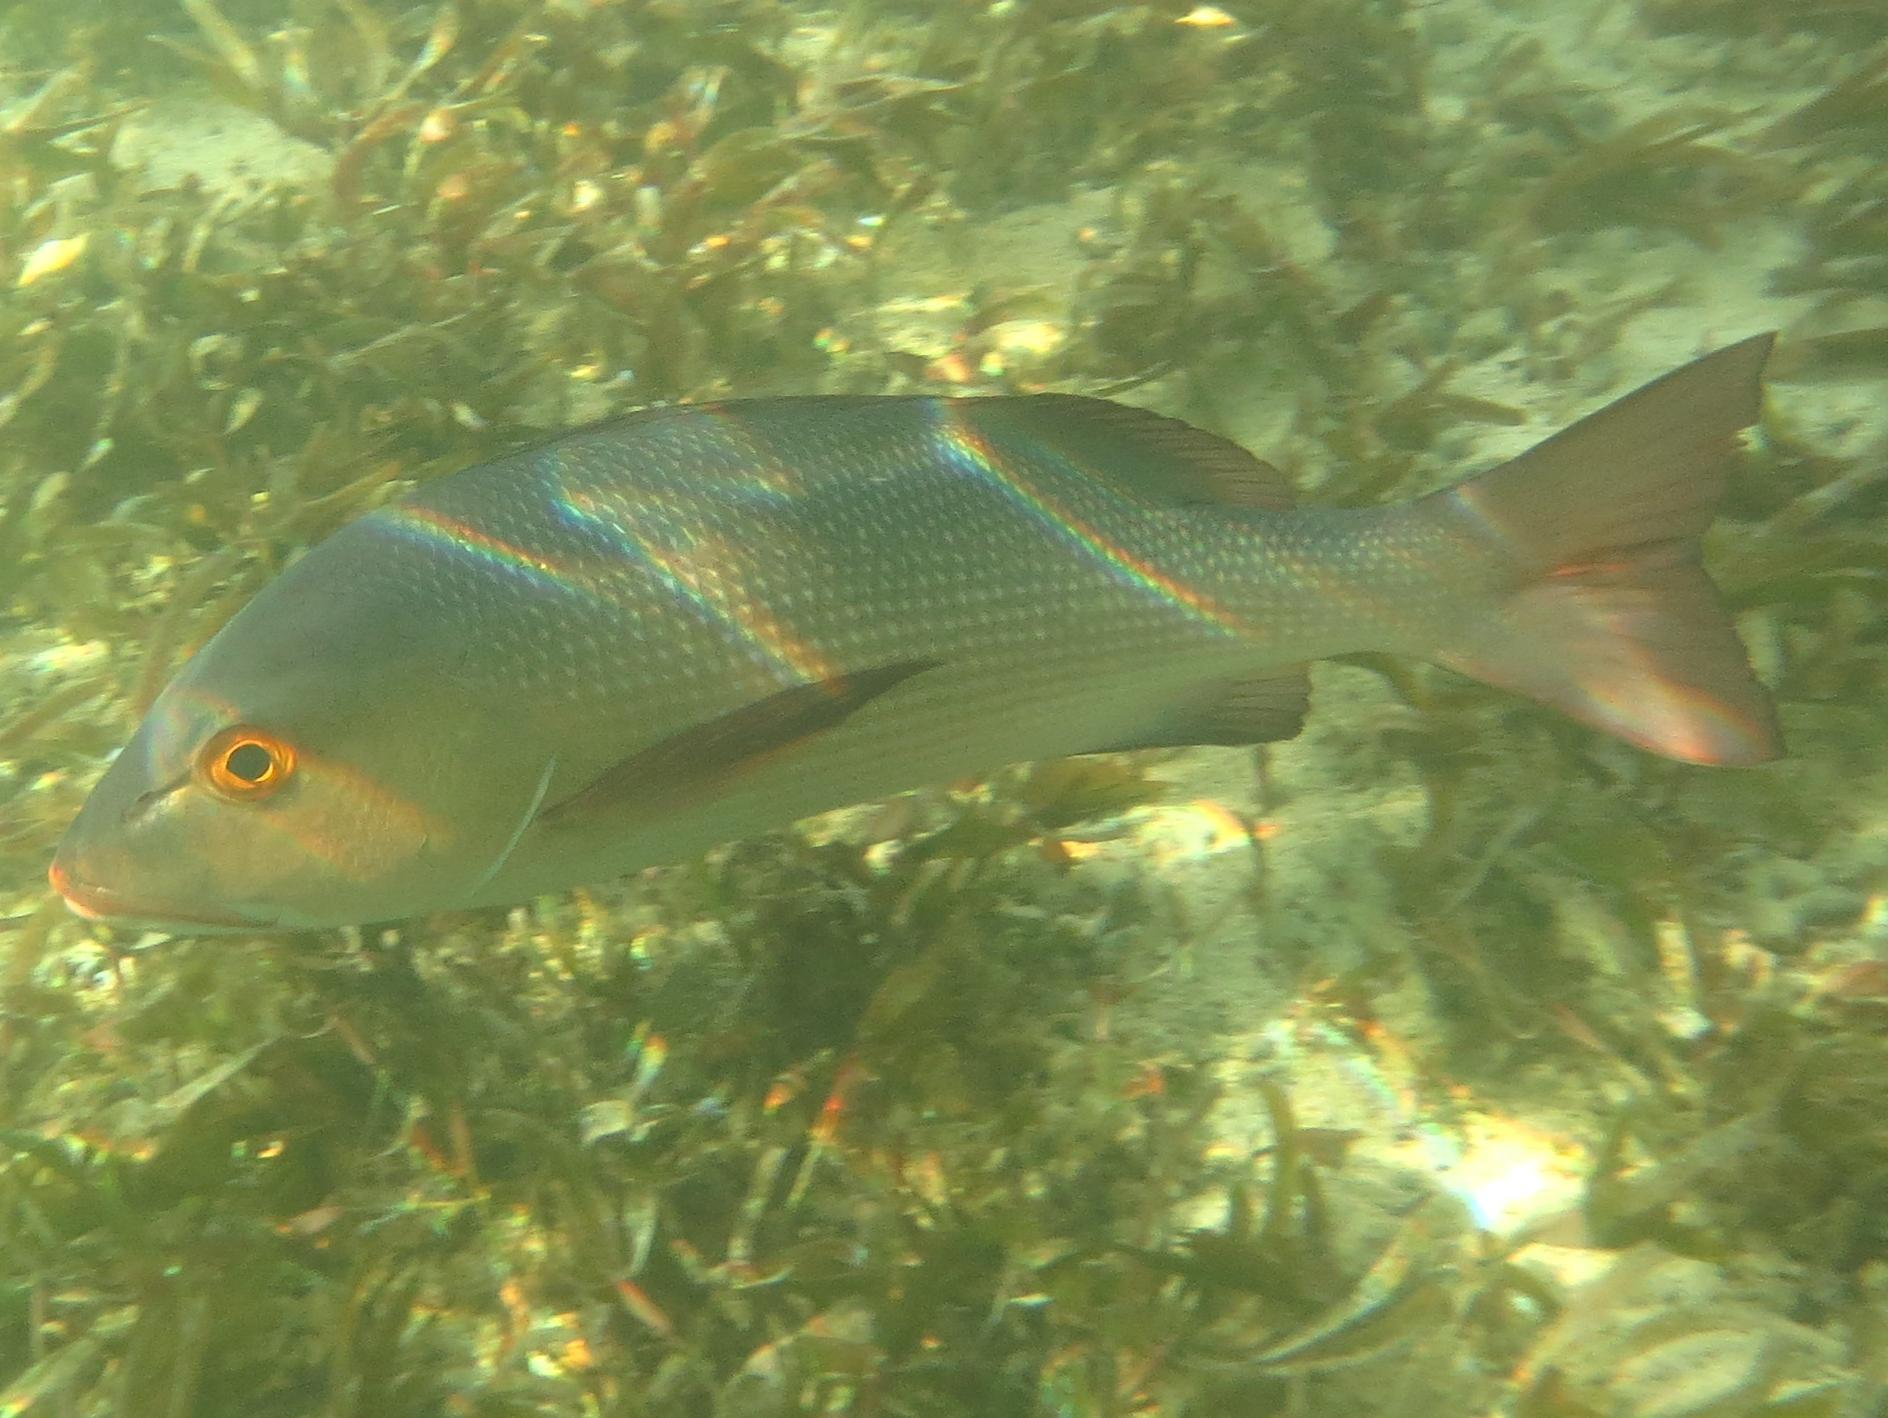Fish: (19, 284, 1814, 999)
